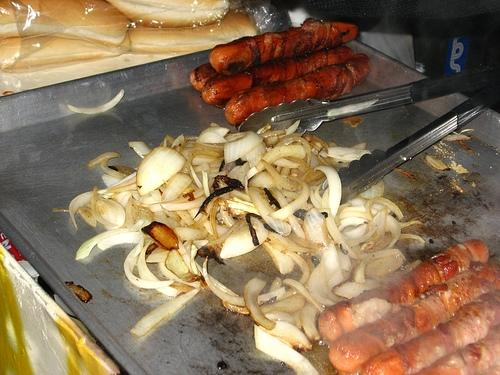onion: (203, 256, 286, 306), (130, 287, 202, 338), (254, 323, 321, 375), (136, 239, 186, 298), (321, 187, 359, 260), (136, 146, 187, 197), (248, 186, 292, 236), (219, 216, 269, 259), (266, 176, 310, 222), (222, 292, 306, 316), (353, 248, 406, 284), (76, 228, 132, 260), (243, 277, 276, 330), (258, 320, 314, 351), (254, 144, 307, 176), (194, 260, 240, 296), (314, 165, 342, 219), (66, 88, 124, 114), (304, 207, 332, 258), (187, 196, 229, 229), (260, 159, 302, 192), (224, 130, 264, 164), (165, 248, 201, 283), (260, 240, 295, 275), (97, 232, 144, 258), (274, 136, 311, 167), (141, 221, 179, 251), (68, 190, 93, 230), (96, 197, 126, 230), (331, 280, 380, 300), (217, 179, 236, 229), (161, 172, 192, 202), (327, 99, 378, 116), (364, 254, 403, 276), (263, 310, 302, 332), (321, 240, 340, 284), (160, 194, 206, 212), (326, 146, 372, 161), (64, 281, 92, 303), (86, 151, 121, 168), (424, 152, 452, 172), (288, 231, 320, 248), (226, 200, 260, 216), (247, 172, 277, 190), (195, 127, 230, 142), (185, 240, 210, 260), (304, 135, 329, 154), (172, 228, 210, 240), (128, 141, 153, 159), (103, 182, 137, 195), (336, 244, 352, 271), (338, 209, 372, 221), (338, 217, 365, 232), (376, 206, 387, 241), (342, 223, 366, 239), (199, 131, 228, 144), (276, 133, 302, 145), (192, 156, 222, 166), (272, 158, 301, 168), (130, 190, 152, 202), (102, 174, 122, 187), (180, 146, 198, 160), (310, 188, 322, 209), (182, 182, 200, 195), (440, 134, 472, 140), (171, 134, 184, 148), (310, 176, 327, 186), (148, 190, 162, 202), (166, 217, 182, 227), (310, 150, 318, 169), (349, 142, 367, 150), (53, 208, 78, 213), (318, 150, 328, 158), (215, 150, 224, 157), (196, 170, 211, 174)
